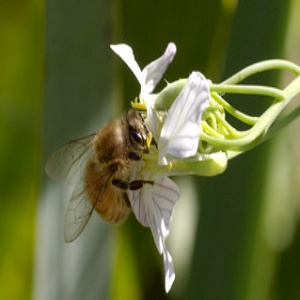bee: (44, 108, 160, 246)
